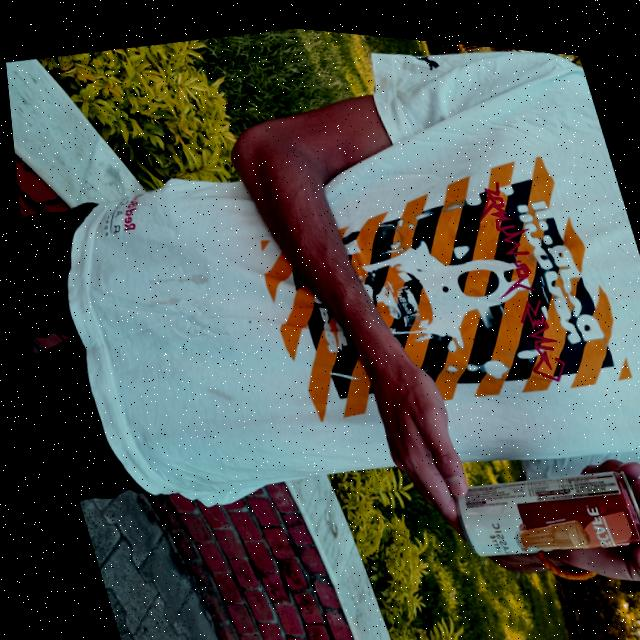Nescafe Classic Iced Latte: (438, 435, 640, 575)
